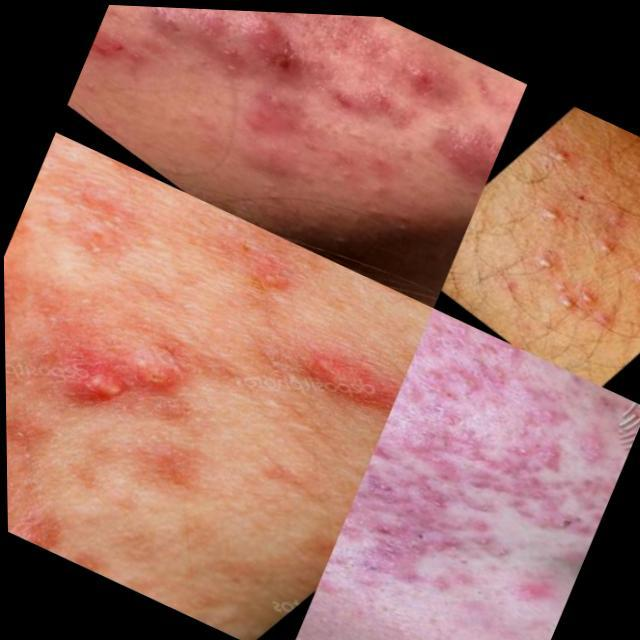cyst: (319, 46, 385, 111), (169, 19, 275, 51), (441, 120, 516, 165), (63, 359, 116, 404), (132, 348, 182, 395), (250, 142, 296, 175), (329, 367, 374, 400), (402, 57, 436, 97), (245, 90, 292, 115)
